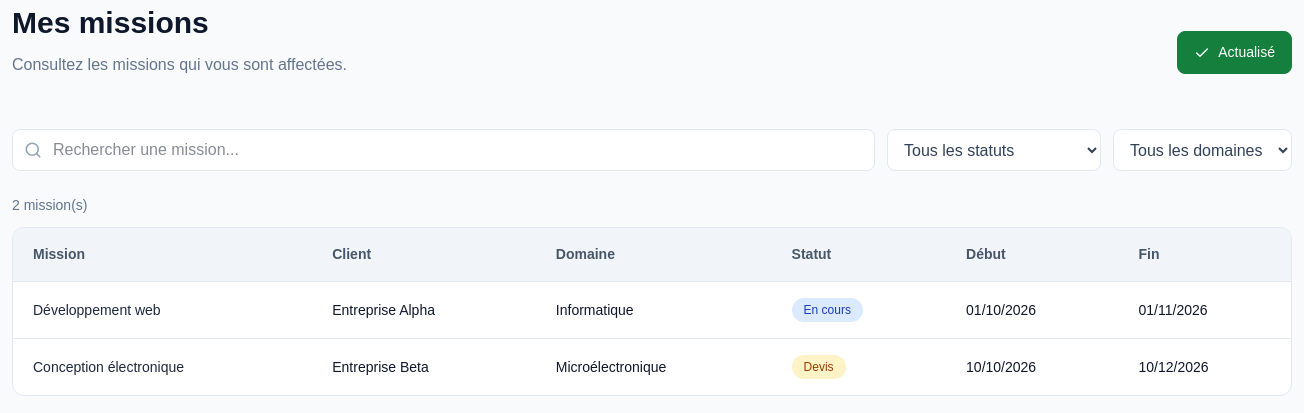
Test case: MyMissionsPage › filtre les missions par domaine
Expected: the text "Développement web" is shown, 13,282 -> 312,338
Select "Microélectronique" in the dropdown named "Filtrer par domaine". click: (1202, 150)
box: 1113,129 -> 1292,171
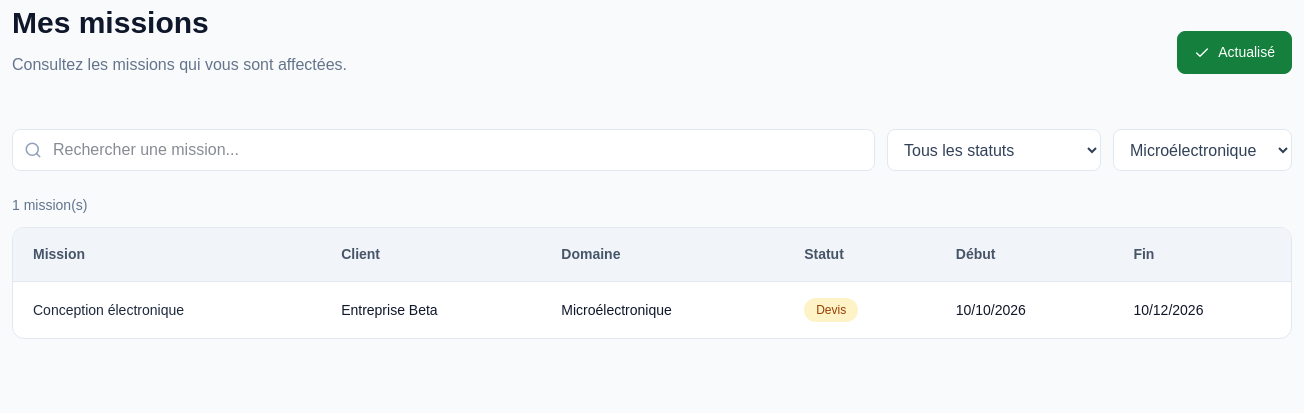
Expected: the text "Conception électronique" is shown, 13,282 -> 321,338
Expected: the text "Développement web" is gone
